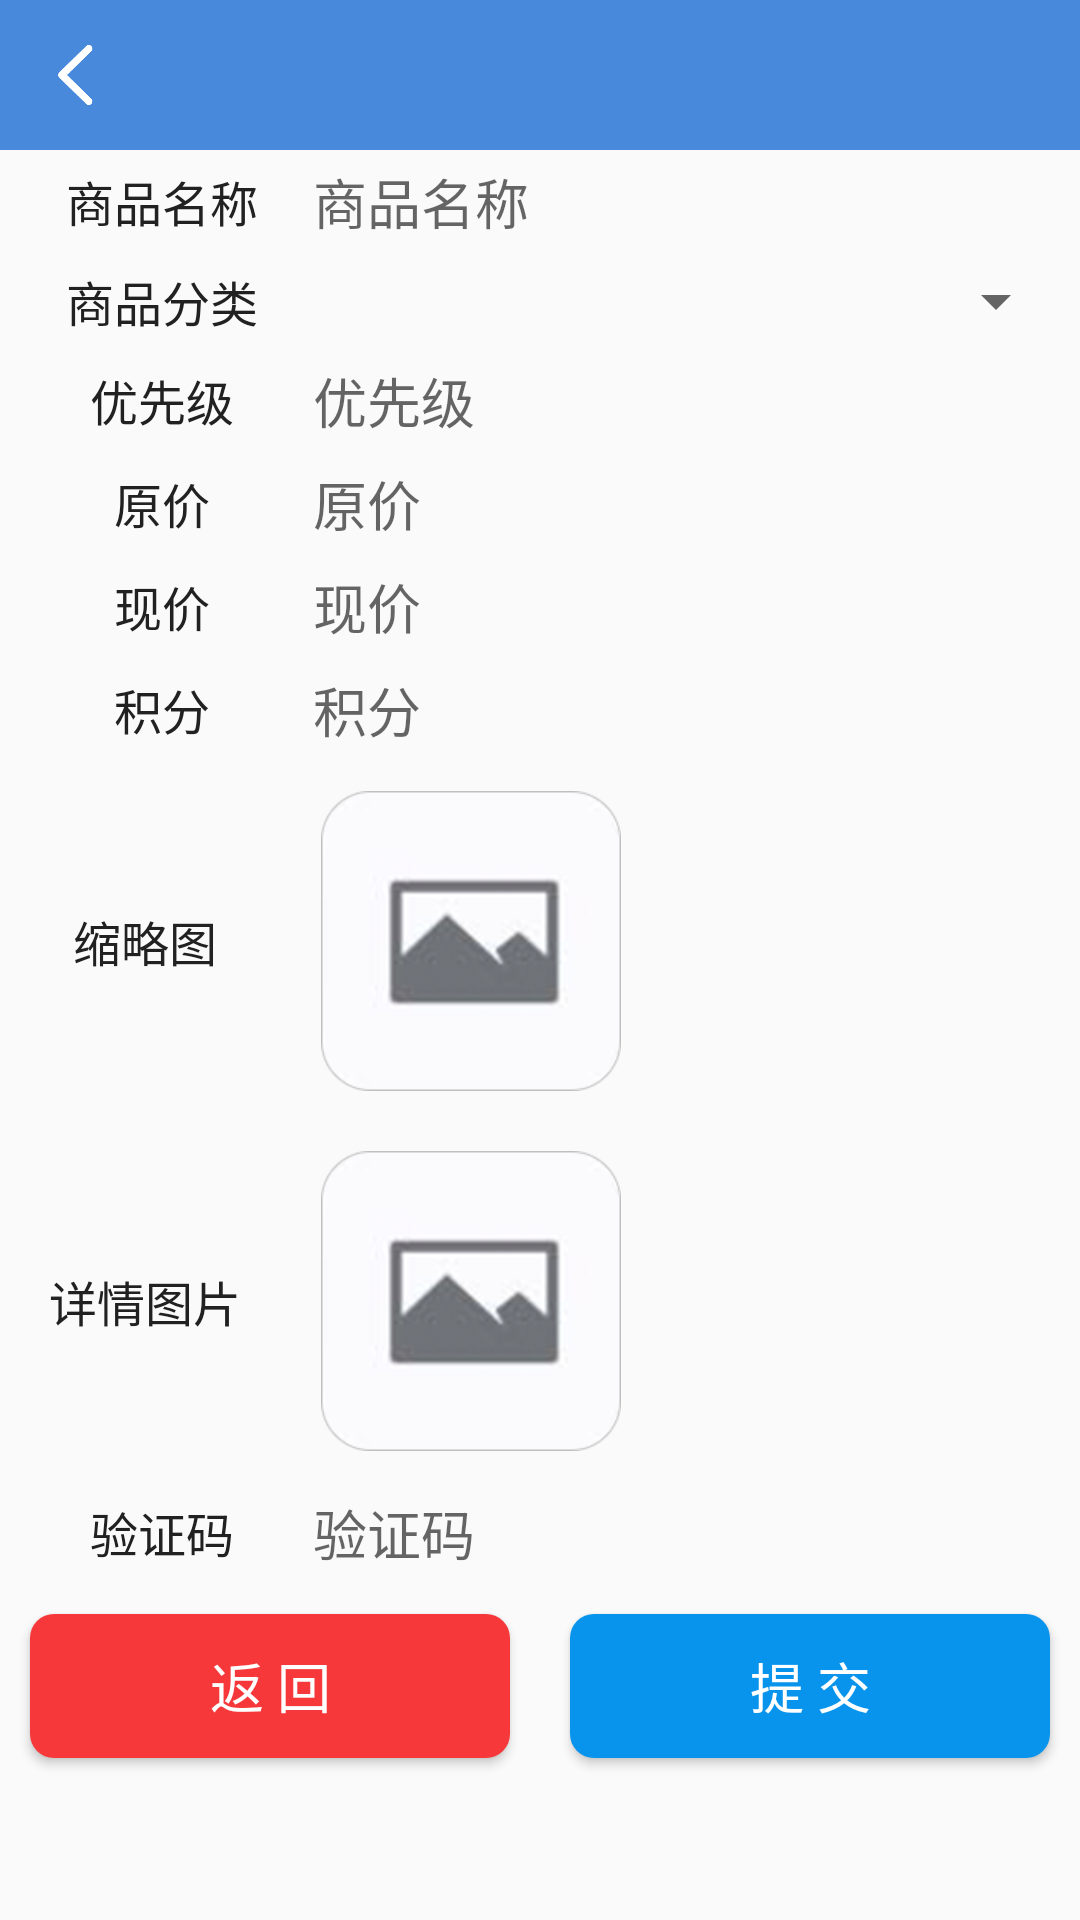

Icon bounding boxes for this 1080 x 1920 phone screenshot, format (x1, y1, x2, y2):
back: (58, 45, 93, 105)
